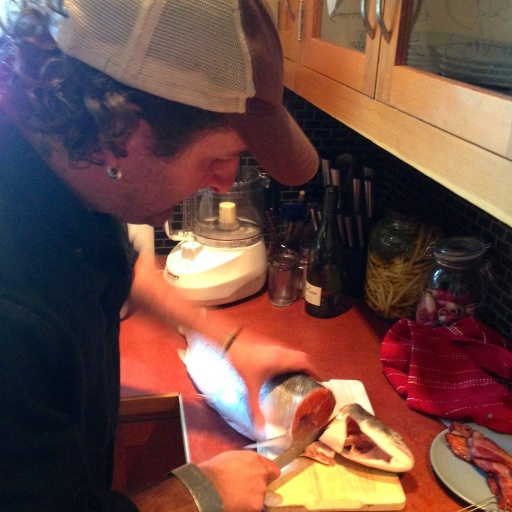hand: (224, 329, 330, 440), (194, 451, 282, 496)
